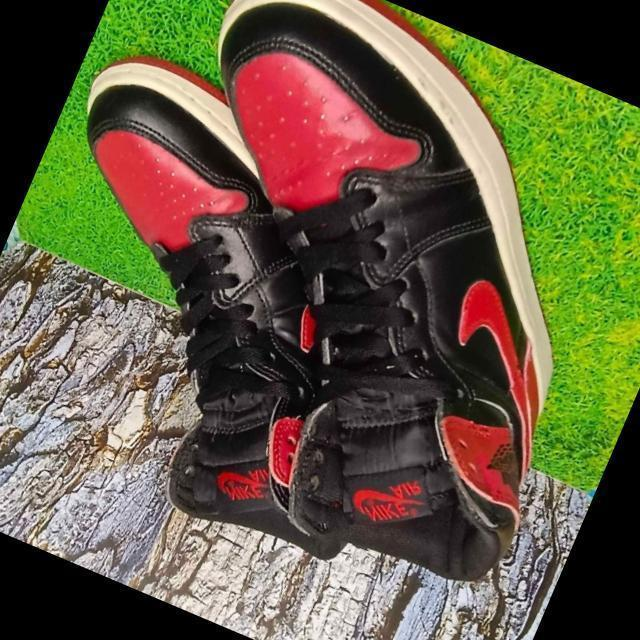nike fake jordan 1: (47, 0, 640, 609), (0, 35, 493, 576)
